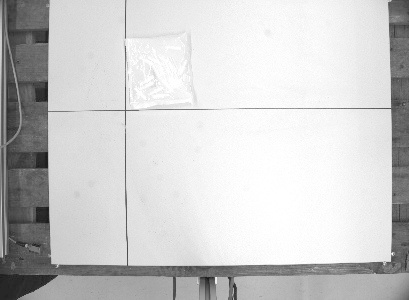t3: (120, 29, 199, 110)
